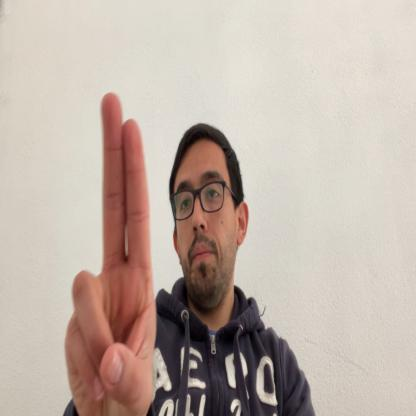U: (64, 90, 156, 415)
